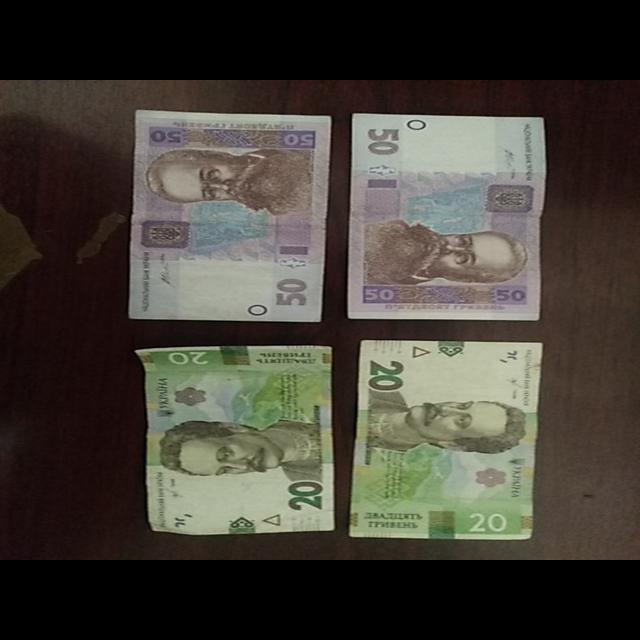20uah: (350, 340, 540, 542), (135, 344, 335, 532)
50uah: (128, 110, 324, 320), (351, 115, 541, 319)
